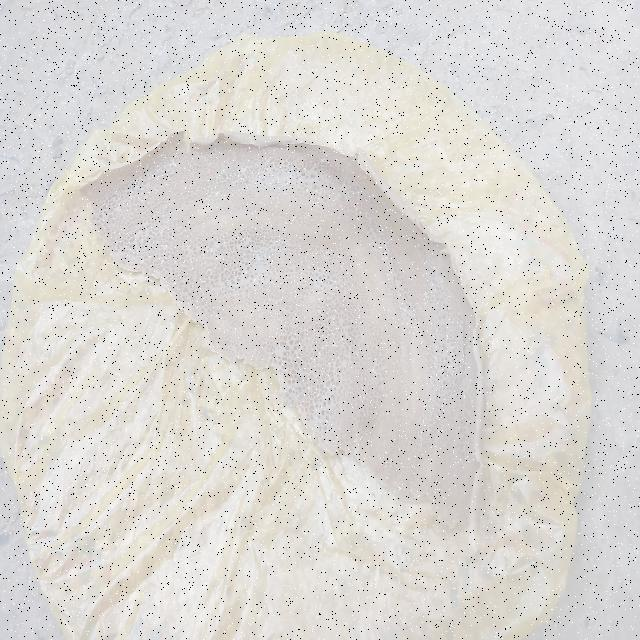injera_mold: (166, 165, 173, 174), (170, 158, 176, 166), (221, 171, 227, 178), (132, 182, 138, 188), (158, 168, 164, 174), (259, 252, 264, 259), (282, 228, 287, 235), (345, 192, 349, 200), (242, 166, 246, 174), (149, 258, 153, 266), (321, 158, 326, 164), (158, 258, 163, 264), (116, 252, 122, 257), (154, 171, 157, 181), (262, 236, 266, 243), (425, 292, 428, 300), (304, 170, 308, 176), (126, 190, 130, 196), (88, 190, 92, 196), (103, 212, 106, 220), (212, 190, 215, 198), (163, 226, 170, 229), (159, 230, 163, 235), (163, 183, 167, 188), (191, 171, 196, 175), (154, 186, 157, 192), (110, 214, 113, 220), (217, 192, 220, 198), (162, 244, 165, 250), (458, 317, 462, 321), (244, 188, 248, 192), (140, 259, 144, 263), (154, 232, 158, 236), (148, 175, 152, 179), (192, 152, 194, 160), (227, 200, 231, 204), (215, 146, 218, 151), (178, 161, 180, 168), (457, 336, 461, 339), (445, 338, 448, 342), (439, 358, 442, 362), (290, 174, 292, 180), (220, 222, 222, 228), (155, 253, 157, 259), (157, 163, 161, 166), (115, 197, 118, 201), (247, 248, 250, 252), (143, 251, 147, 254), (190, 231, 192, 236), (319, 191, 322, 194), (166, 155, 169, 158), (448, 364, 450, 368), (458, 403, 460, 407), (325, 174, 327, 178), (330, 184, 334, 186), (147, 165, 149, 169), (272, 180, 274, 184), (465, 396, 467, 399), (309, 160, 312, 162), (90, 210, 93, 212), (459, 394, 461, 396), (447, 334, 450, 335), (453, 367, 454, 370), (444, 360, 445, 363), (472, 399, 472, 404)
